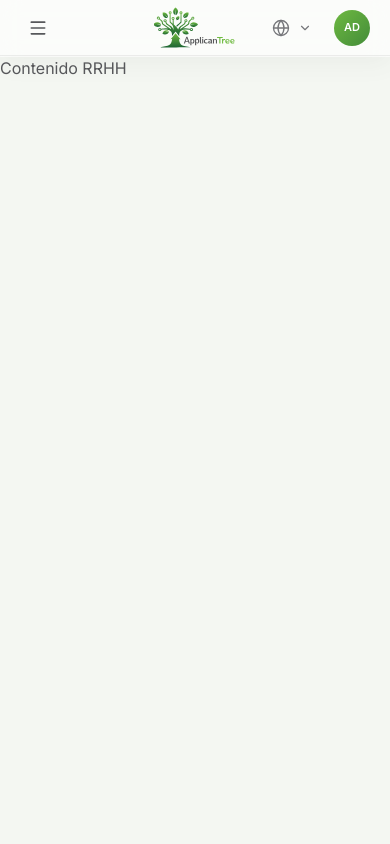
RrhhPortalShell › abre el cajón de navegación desde el menú tablet
Click the button named "Abrir menú" at (38, 28), box [16,6,60,50]
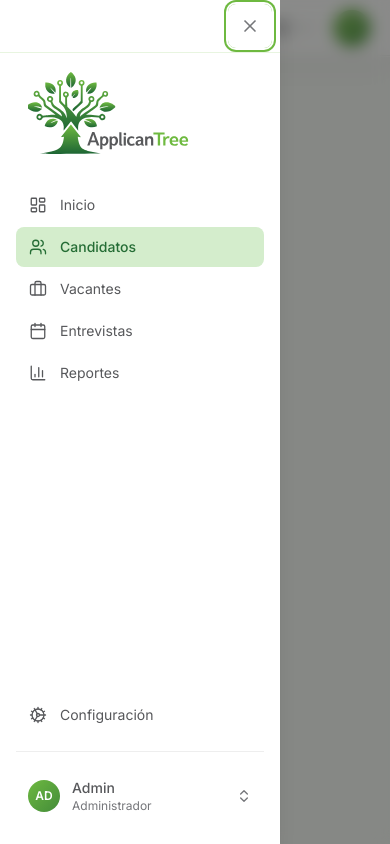
Check: the dialog named "Menú de navegación" is shown
Check: the button named "Cerrar menú" is shown, box [228,4,272,48]
